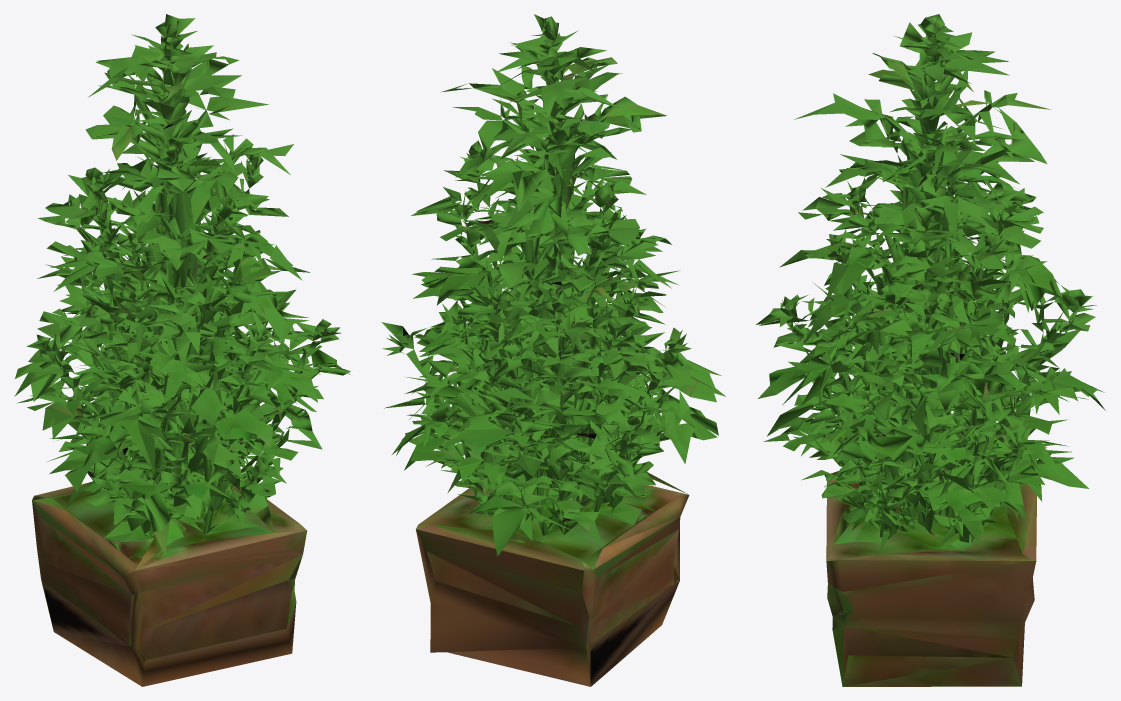
Rendered from getkong-gruen1.glb.
3 renders of one model, left to right at view 1: azimuth 30°, elevation 25°; view 2: azimuth 150°, elevation 25°; view 3: azimuth 270°, elevation 25°, orthographic. The views are drawn at different scales.
Parts seen in each view (by area): view 1: output_unwrapped; view 2: output_unwrapped; view 3: output_unwrapped.
Part boxes in pixels (x1=…): output_unwrapped: x1=14, y1=14, x2=350, y2=686; output_unwrapped: x1=381, y1=14, x2=725, y2=686; output_unwrapped: x1=756, y1=14, x2=1105, y2=686.
Bounding box in the file's own units: 0.9782 × 1.86 × 0.9342.
Materials: 1 (1 with a texture image).
